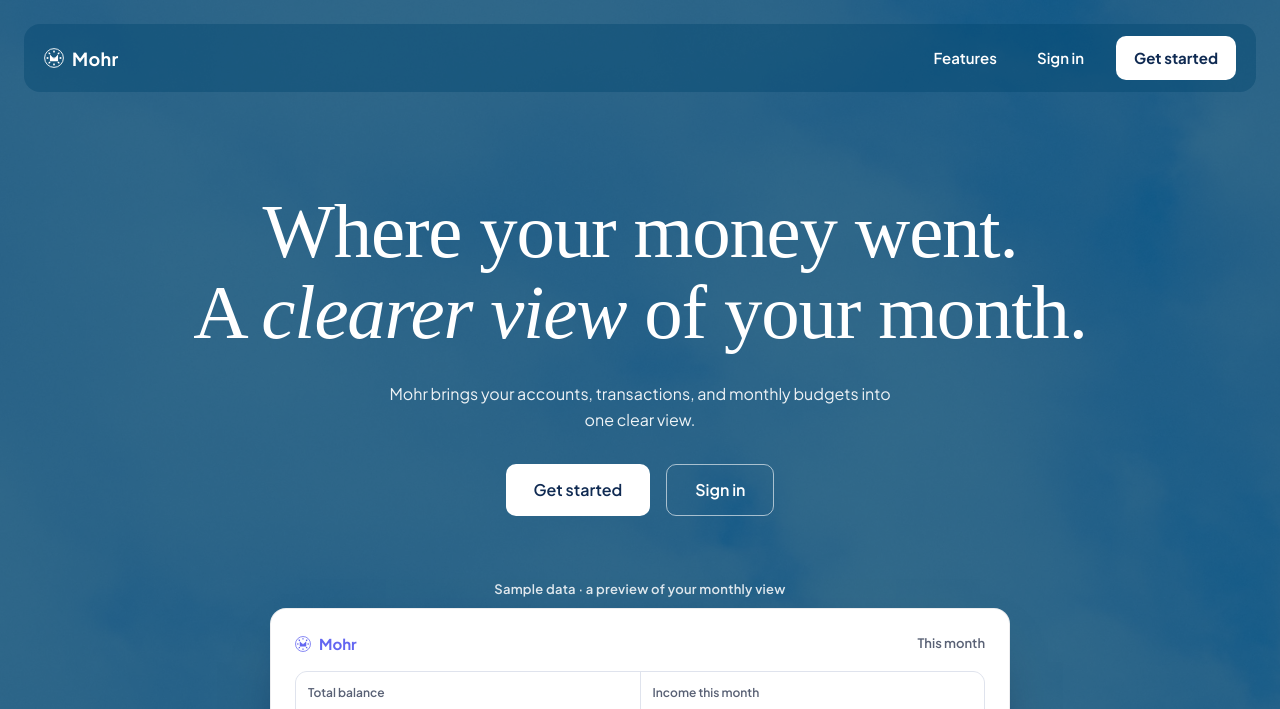
application shell navigation › drops the public landing shell after native guest link navigation
Click the link "Sign in" next to "Features". click: (1060, 57)
box: [1037,48,1084,67]
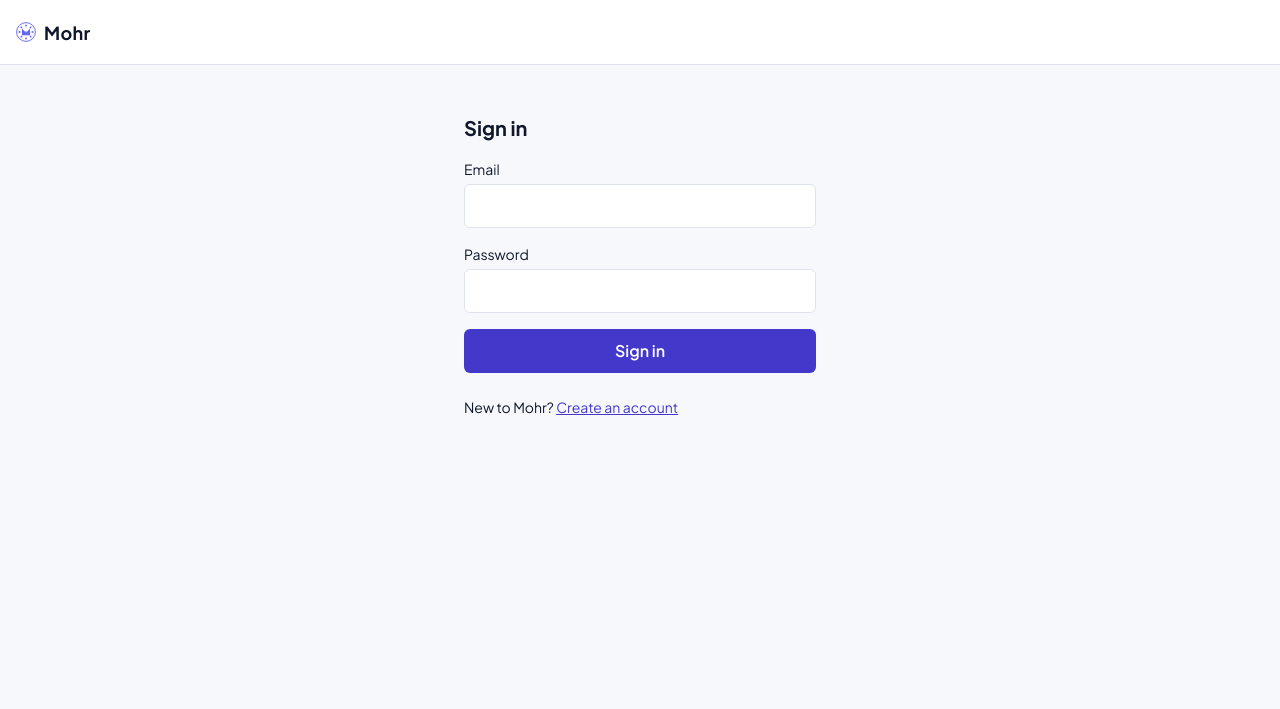
expect the field labelled "Email" is shown: met, box [464,184,816,228]
expect the navigation bar "Public" is gone: met
